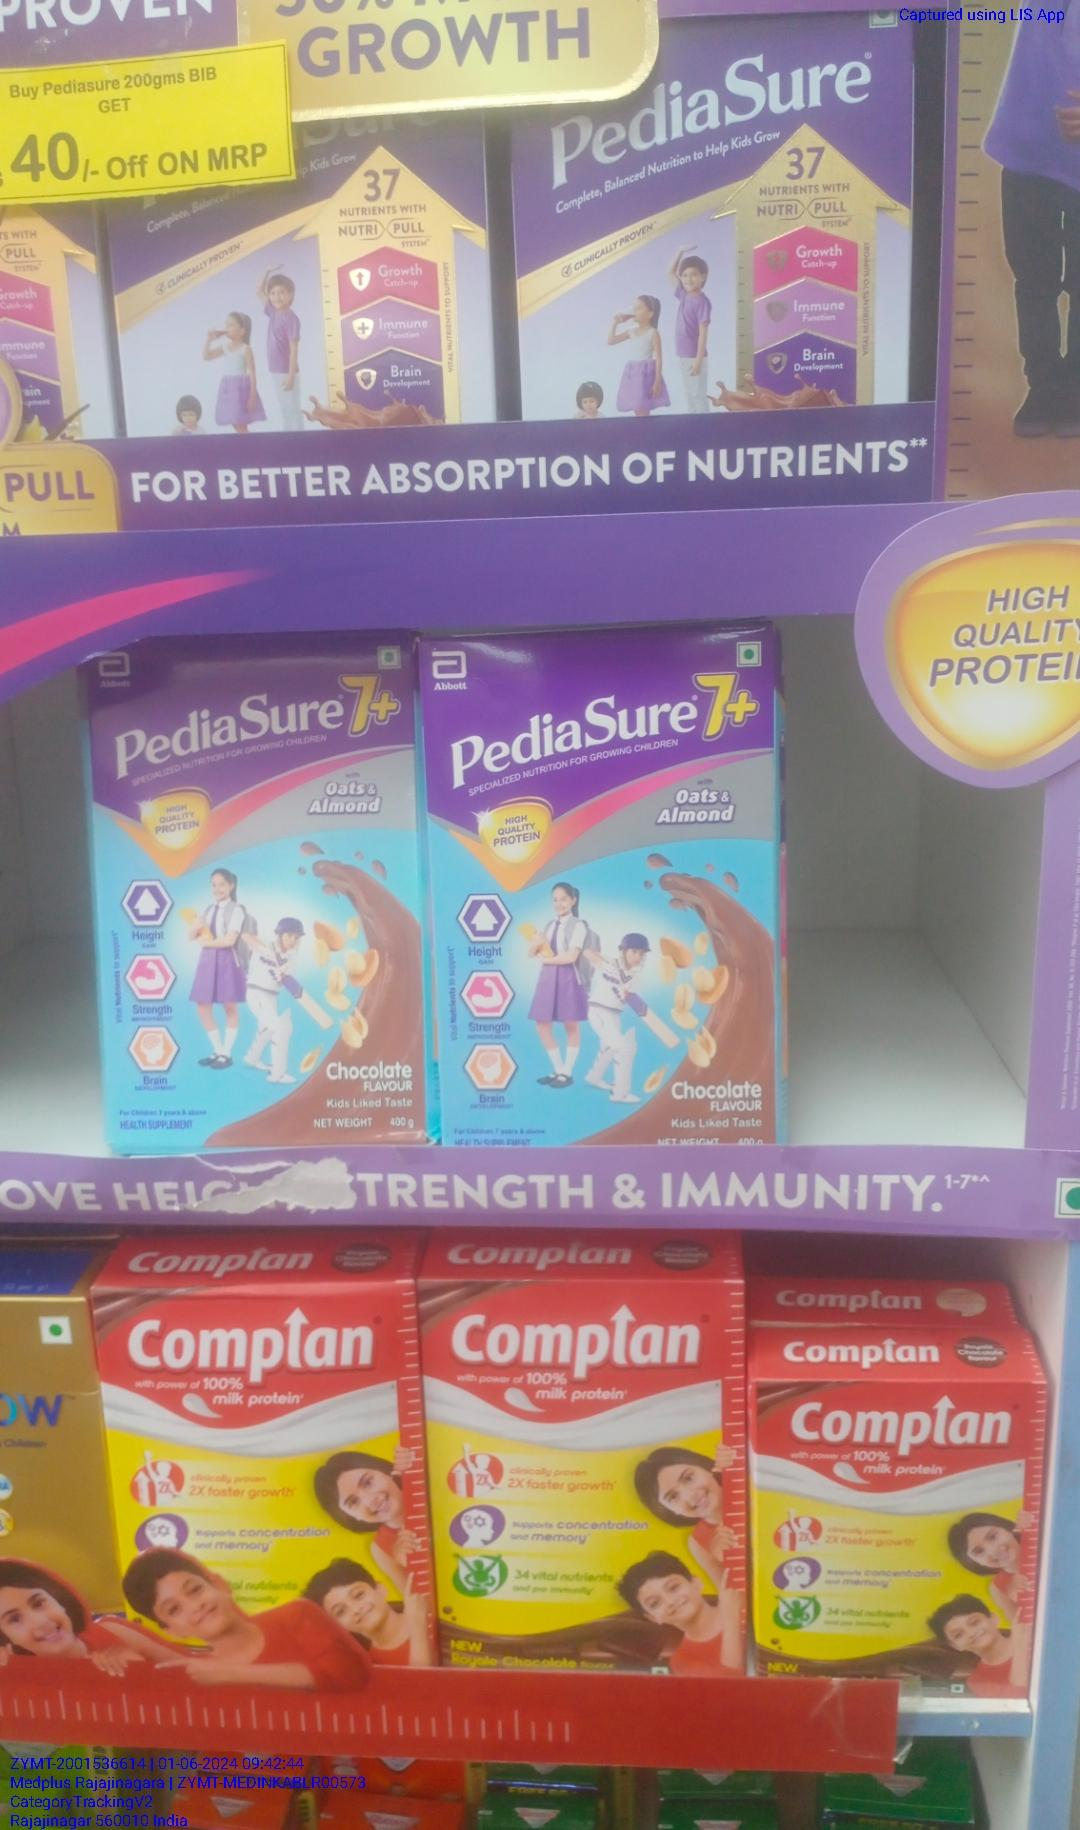COMPLAN_CHOCOLATE_200_GMS_PACK: (755, 1375, 1039, 1703)
PEDIASURE_7_PLUS_CHOCOLATE_400_G_PACK: (431, 621, 773, 1140), (99, 640, 414, 1149)
